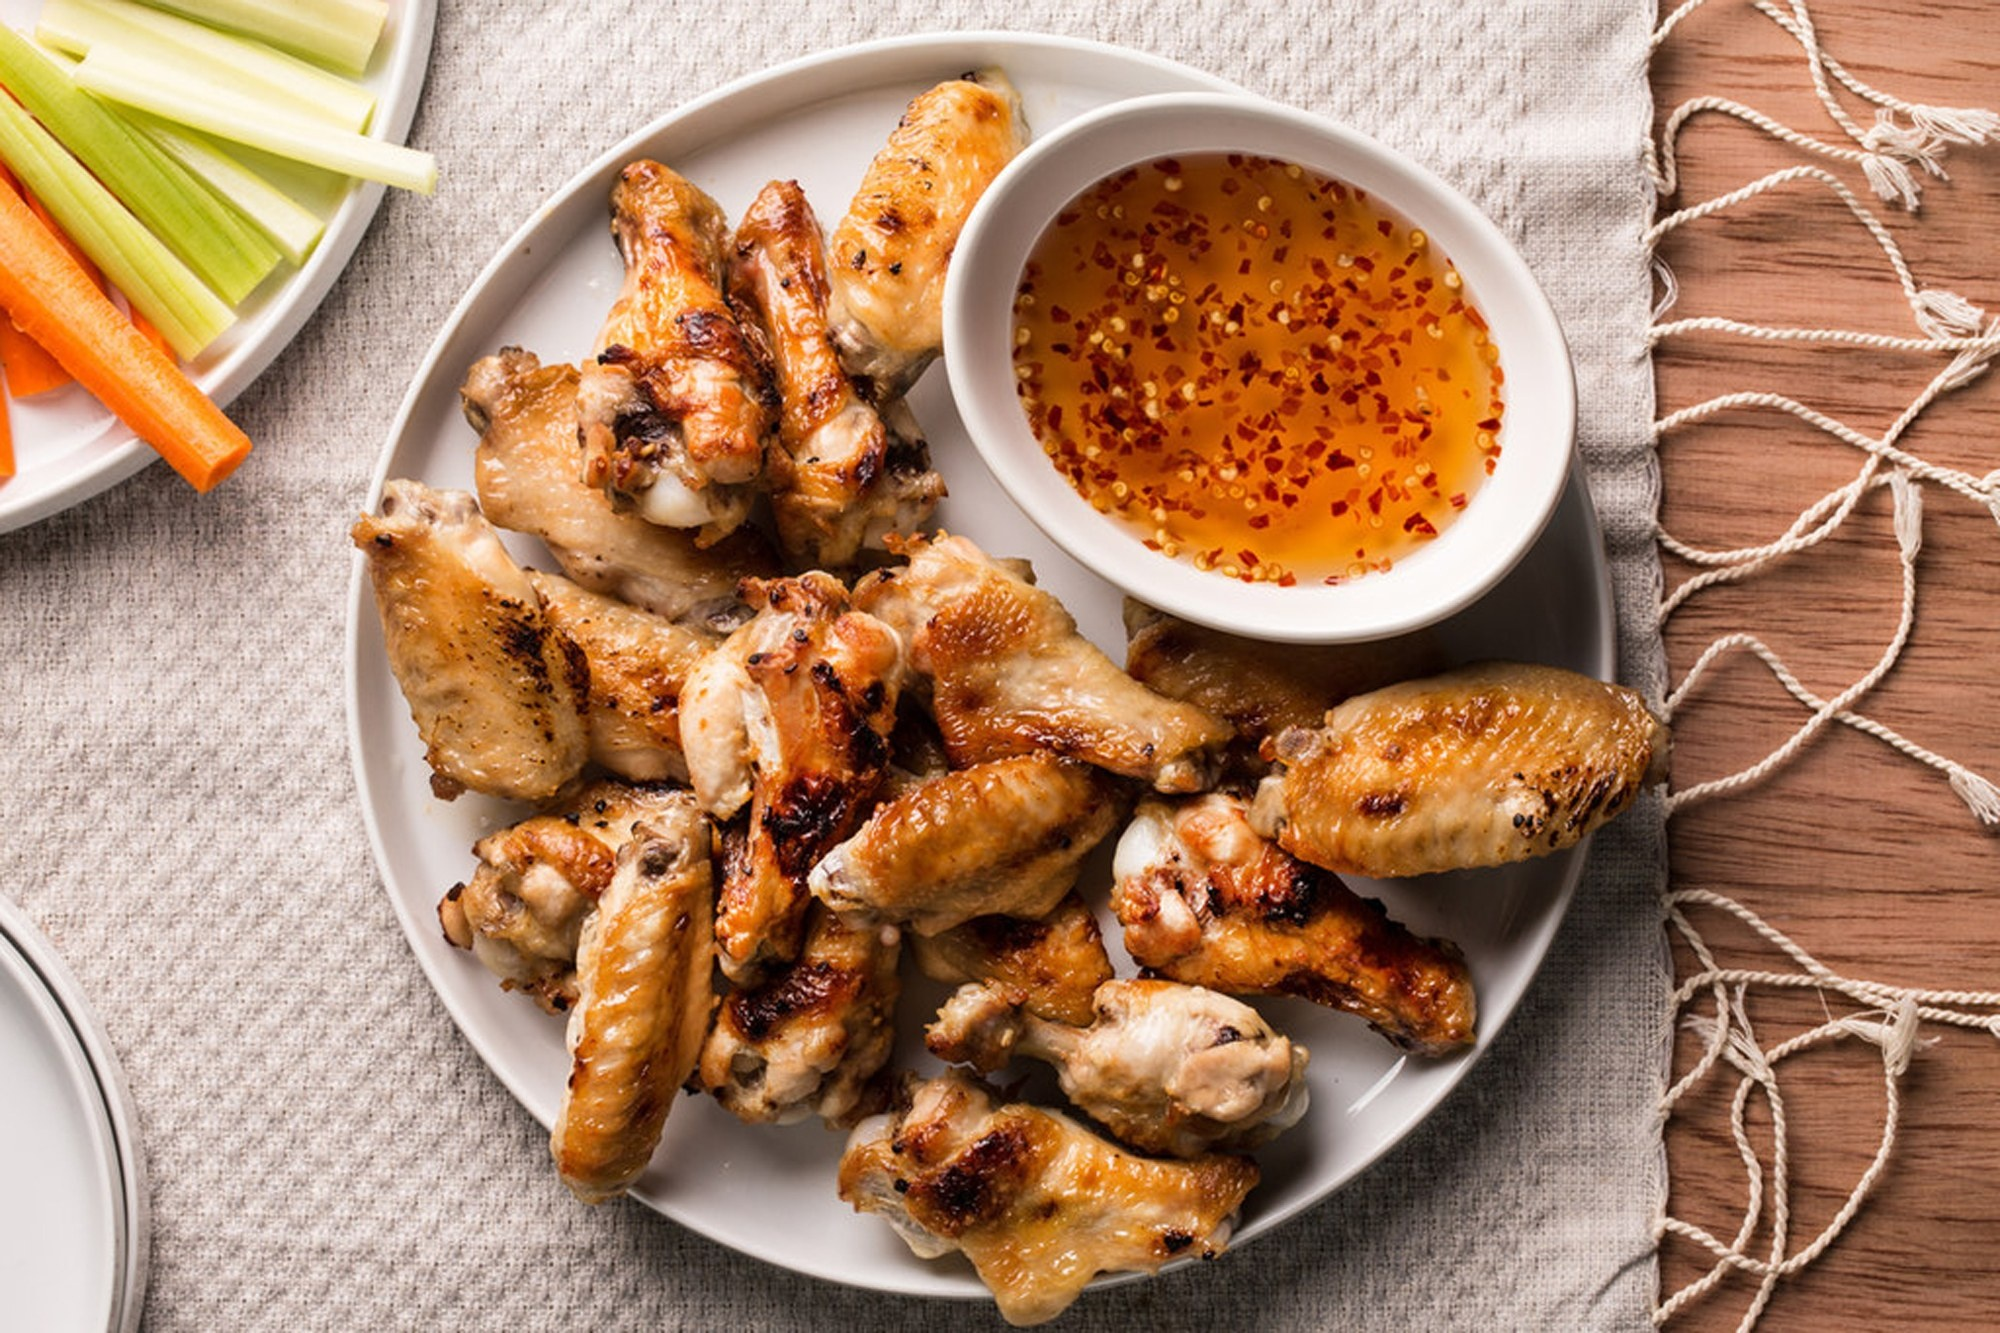background: (0, 0, 1365, 1027)
